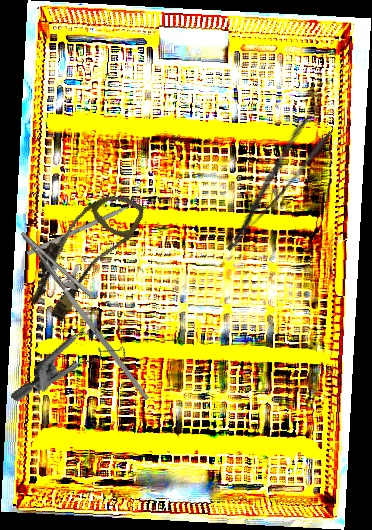Cannula: (18, 175, 148, 331)
Dressing Forceps: (205, 112, 335, 254)
Needle Holder: (1, 219, 180, 402)
Pusher: (26, 194, 150, 257)
Speculum: (9, 294, 139, 437)
